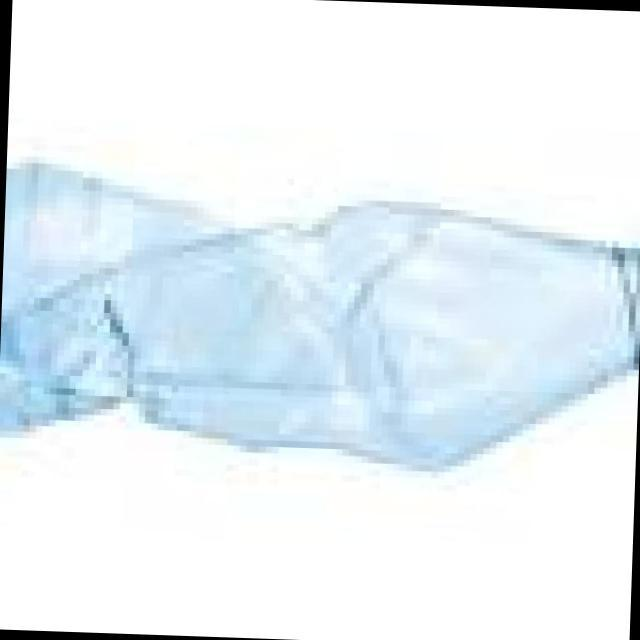defected: (0, 152, 640, 509)
